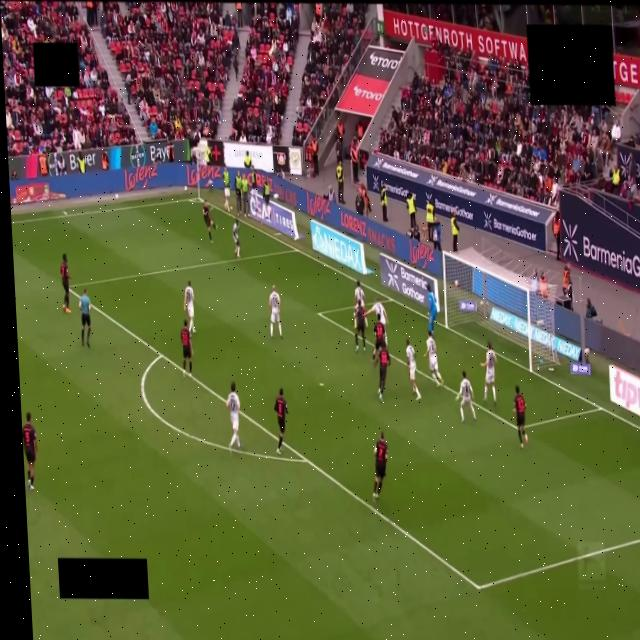ball: (274, 194, 278, 199)
player: (22, 412, 37, 490), (424, 331, 444, 386), (373, 432, 388, 502), (376, 342, 393, 402), (456, 371, 476, 421), (226, 383, 240, 451), (367, 302, 388, 344), (482, 342, 496, 405), (514, 386, 528, 448), (274, 388, 287, 454), (406, 339, 420, 400), (202, 202, 219, 244), (269, 286, 282, 338), (372, 315, 385, 363), (354, 300, 366, 352), (181, 320, 192, 376), (60, 253, 70, 312), (184, 281, 195, 334), (427, 284, 438, 333), (223, 168, 230, 212), (354, 282, 365, 308), (233, 219, 240, 257)
referee: (80, 289, 90, 347)
